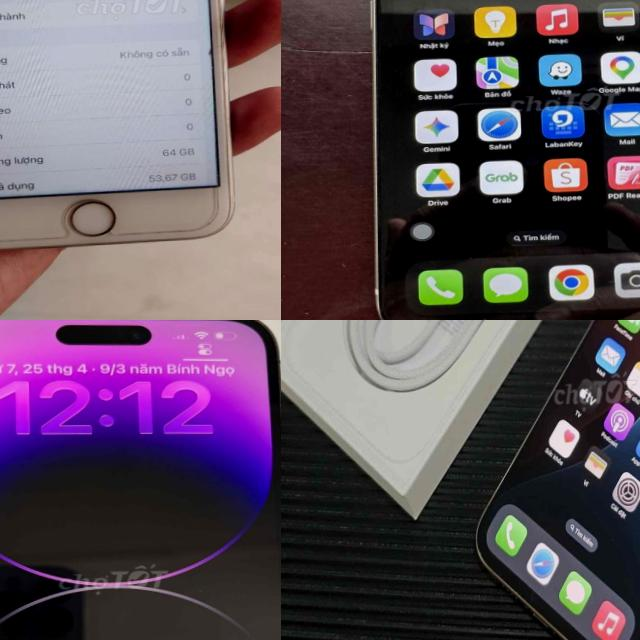gen_11: (362, 0, 640, 320)
gen_14: (0, 320, 281, 640)
gen_16: (464, 320, 640, 640)
gen_7_8: (0, 0, 252, 249), (117, 218, 220, 234)
scratch: (466, 314, 495, 320)
